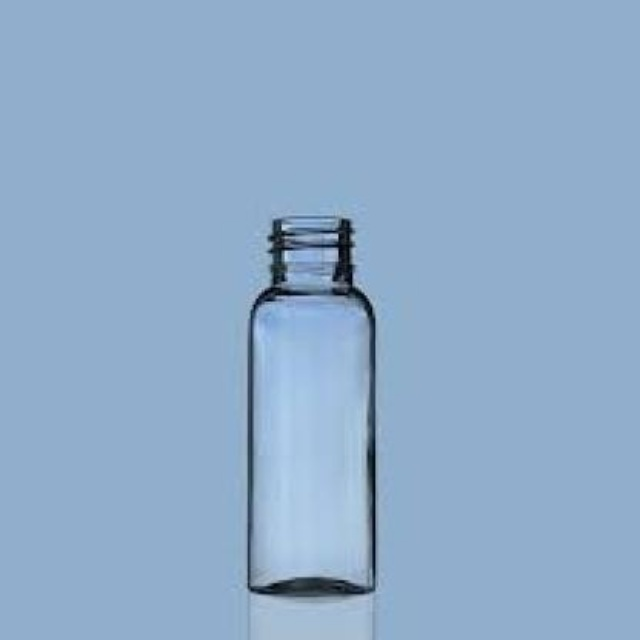trash: (248, 215, 374, 638), (249, 215, 374, 594)
